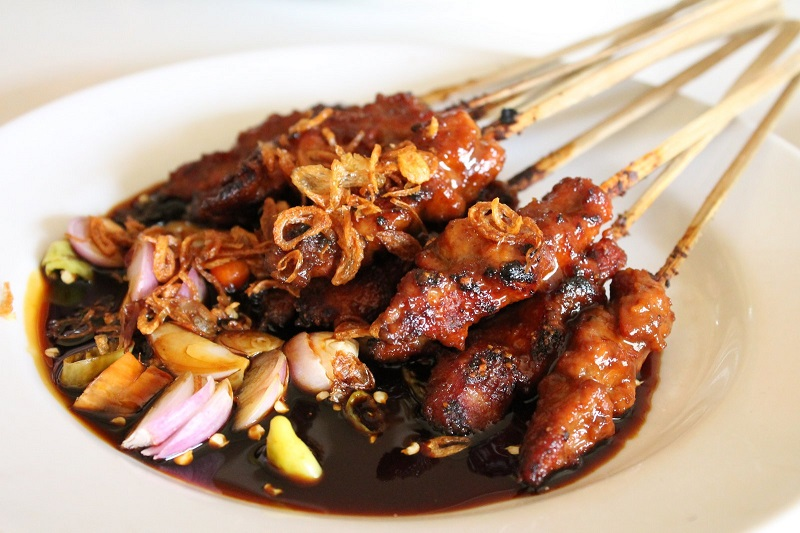sate: (30, 57, 709, 527)
